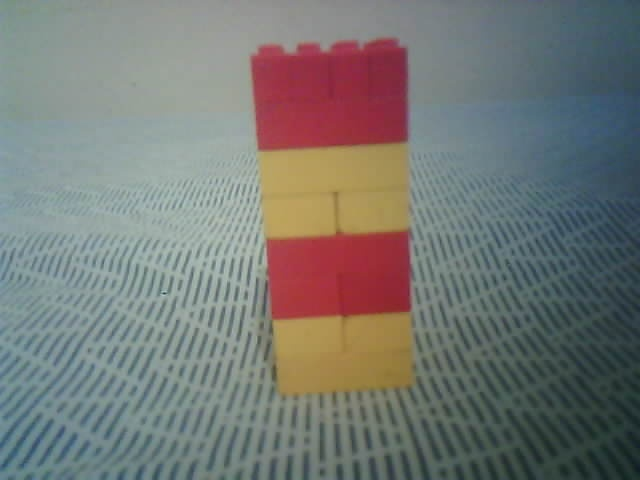lego: (246, 37, 417, 395)
